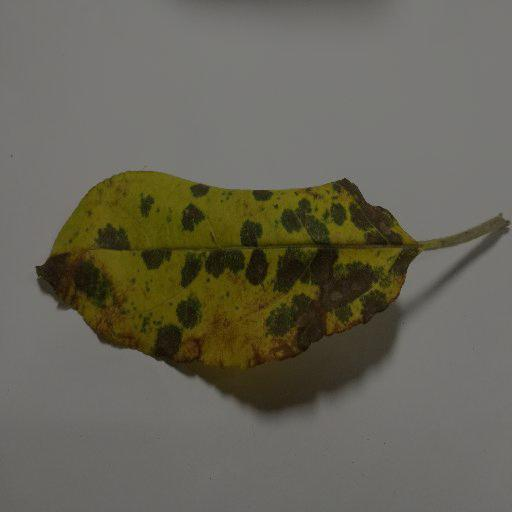Brown_Spot: (235, 252, 410, 342), (322, 177, 423, 245), (40, 251, 120, 323)
